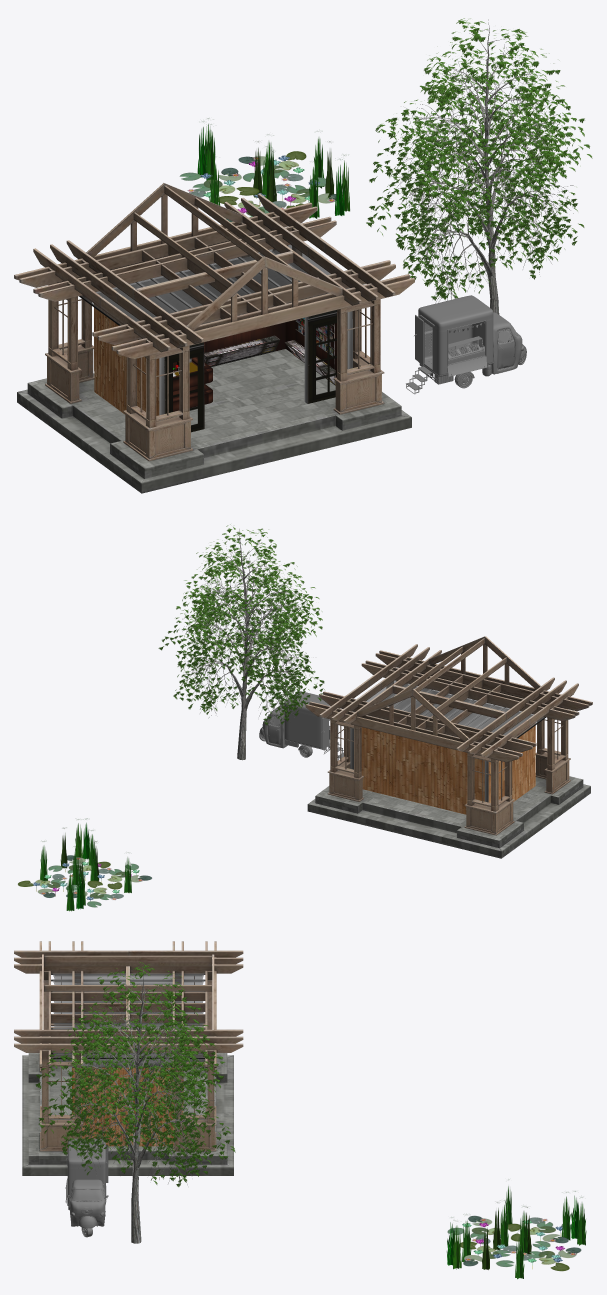
3 views of the same model, one above another, from view 1: azimuth 30°, elevation 25°; view 2: azimuth 150°, elevation 25°; view 3: azimuth 270°, elevation 25° (orthographic). The views are drawn at different scales.
Visible parts, largest first — view 1: prim0-mesh (×4), Maple Large, TREE MAPLE MESH 2 PRIMS, Govgrid Lilypads, Vespa Snack Cart (×4); view 2: prim0-mesh (×3), Maple Large, TREE MAPLE MESH 2 PRIMS, Govgrid Lilypads, Vespa Snack Cart; view 3: prim0-mesh (×3), Maple Large, TREE MAPLE MESH 2 PRIMS, Govgrid Lilypads, Vespa Snack Cart (×2).
Part boxes in pixels (x1=…): prim0-mesh (×4): x1=14, y1=183, x2=414, y2=493; Maple Large: x1=375, y1=18, x2=592, y2=314; TREE MAPLE MESH 2 PRIMS: x1=366, y1=88, x2=584, y2=300; Govgrid Lilypads: x1=179, y1=118, x2=349, y2=221; Vespa Snack Cart (×4): x1=418, y1=295, x2=524, y2=376; prim0-mesh (×3): x1=305, y1=636, x2=592, y2=858; Maple Large: x1=176, y1=524, x2=322, y2=760; TREE MAPLE MESH 2 PRIMS: x1=158, y1=576, x2=324, y2=725; Govgrid Lilypads: x1=18, y1=818, x2=151, y2=911; Vespa Snack Cart: x1=284, y1=691, x2=338, y2=749; prim0-mesh (×3): x1=14, y1=941, x2=243, y2=1175; Maple Large: x1=48, y1=962, x2=224, y2=1243; TREE MAPLE MESH 2 PRIMS: x1=35, y1=1013, x2=235, y2=1186; Govgrid Lilypads: x1=446, y1=1186, x2=586, y2=1279; Vespa Snack Cart (×2): x1=67, y1=1138, x2=106, y2=1226.
Bounding box in the file's own units: 24.6 × 15.56 × 27.86.
148 materials, 132 textured.
